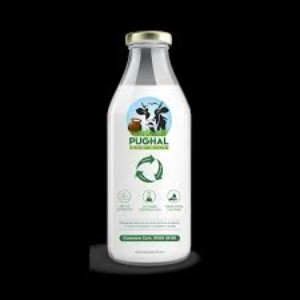milk_brain food: (101, 105, 198, 264)
